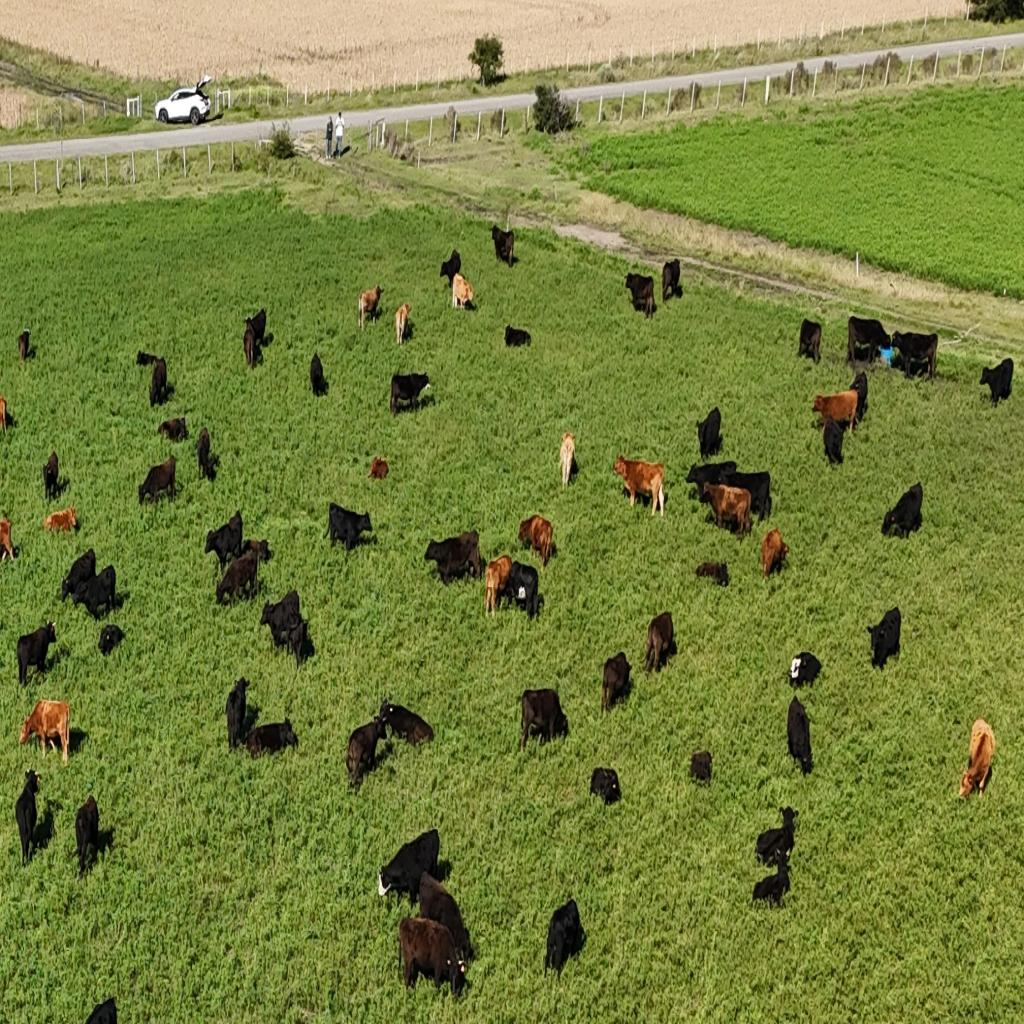cow: (384, 905, 476, 1000), (417, 870, 473, 966), (375, 828, 440, 906), (261, 590, 308, 666), (344, 716, 390, 792), (19, 698, 70, 763), (424, 530, 483, 586), (615, 454, 667, 517), (544, 898, 584, 979), (520, 686, 567, 750), (959, 717, 995, 799), (809, 387, 866, 438), (377, 699, 435, 747), (722, 470, 772, 524), (70, 564, 118, 620), (754, 806, 798, 867), (14, 769, 41, 868), (16, 620, 56, 686), (890, 329, 938, 384), (882, 483, 923, 544), (204, 508, 244, 570), (216, 549, 258, 607), (327, 501, 375, 551), (866, 605, 902, 669), (244, 718, 300, 759), (786, 694, 814, 775), (847, 315, 890, 367), (74, 794, 100, 878), (643, 610, 675, 678), (751, 856, 792, 908), (506, 559, 540, 621), (137, 456, 177, 508), (518, 515, 555, 569), (685, 462, 734, 502), (390, 371, 432, 417), (62, 549, 96, 604), (601, 652, 631, 714), (484, 554, 513, 618), (226, 676, 250, 752), (979, 357, 1014, 406), (624, 272, 656, 319), (761, 527, 788, 581), (787, 650, 821, 688), (822, 416, 847, 467), (696, 406, 720, 458), (590, 766, 620, 806), (490, 223, 516, 269), (358, 284, 384, 330), (197, 428, 217, 484), (798, 318, 822, 363), (42, 506, 78, 536), (850, 369, 868, 425), (149, 356, 168, 408), (559, 432, 576, 488), (84, 997, 118, 1024), (452, 271, 474, 312), (662, 258, 681, 304), (696, 560, 728, 587), (98, 624, 125, 656), (440, 249, 462, 288), (244, 308, 266, 346), (689, 749, 712, 785), (157, 417, 188, 443), (43, 451, 59, 501), (394, 302, 412, 346), (0, 514, 16, 562), (310, 352, 326, 396), (504, 324, 531, 348), (242, 322, 256, 368), (246, 538, 270, 561), (367, 456, 389, 480), (0, 396, 13, 434), (136, 350, 163, 368), (17, 330, 31, 364)
